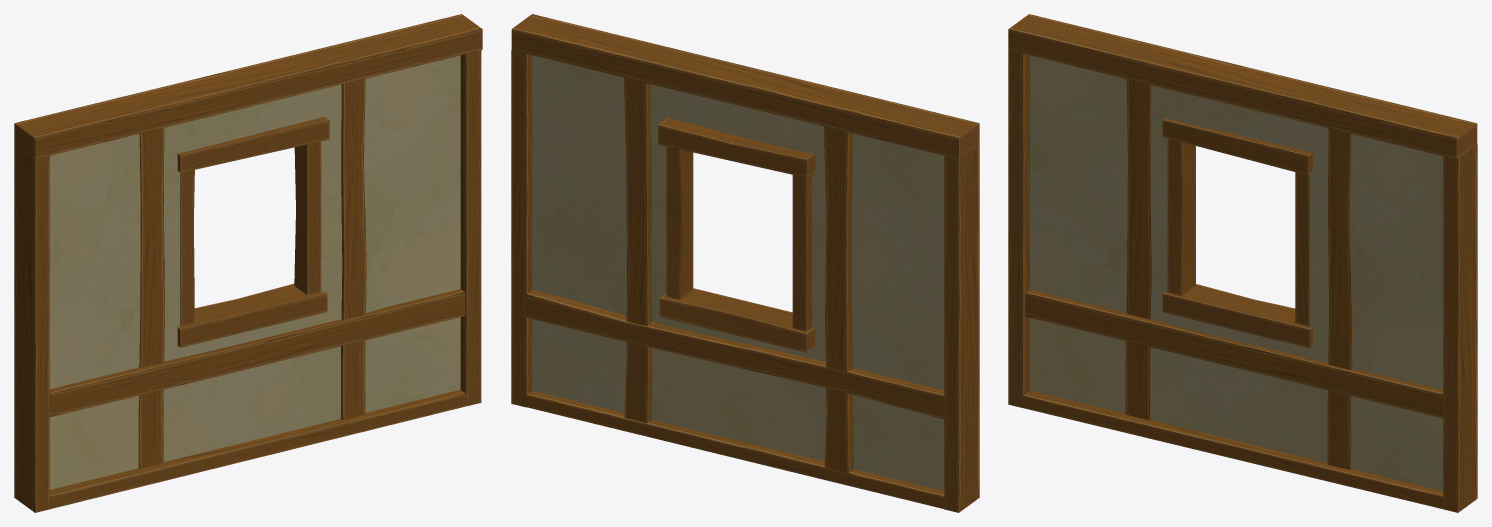
Rendered from SM_House_Wall_5x4_Window_A_01.fbx.
The picture shows the model from 3 angles, left to right: view 1: azimuth 30°, elevation 25°; view 2: azimuth 150°, elevation 25°; view 3: azimuth 330°, elevation 25°; orthographic projection.
Visible parts, largest first — view 1: SM_House_Wall_5x4_Window_A_01; view 2: SM_House_Wall_5x4_Window_A_01; view 3: SM_House_Wall_5x4_Window_A_01.
Part boxes in pixels (<box>): SM_House_Wall_5x4_Window_A_01: <box>14,14,482,512</box>; SM_House_Wall_5x4_Window_A_01: <box>511,14,979,512</box>; SM_House_Wall_5x4_Window_A_01: <box>1008,14,1477,512</box>.
Size of the model in its own units: 5 by 4 by 0.482.
